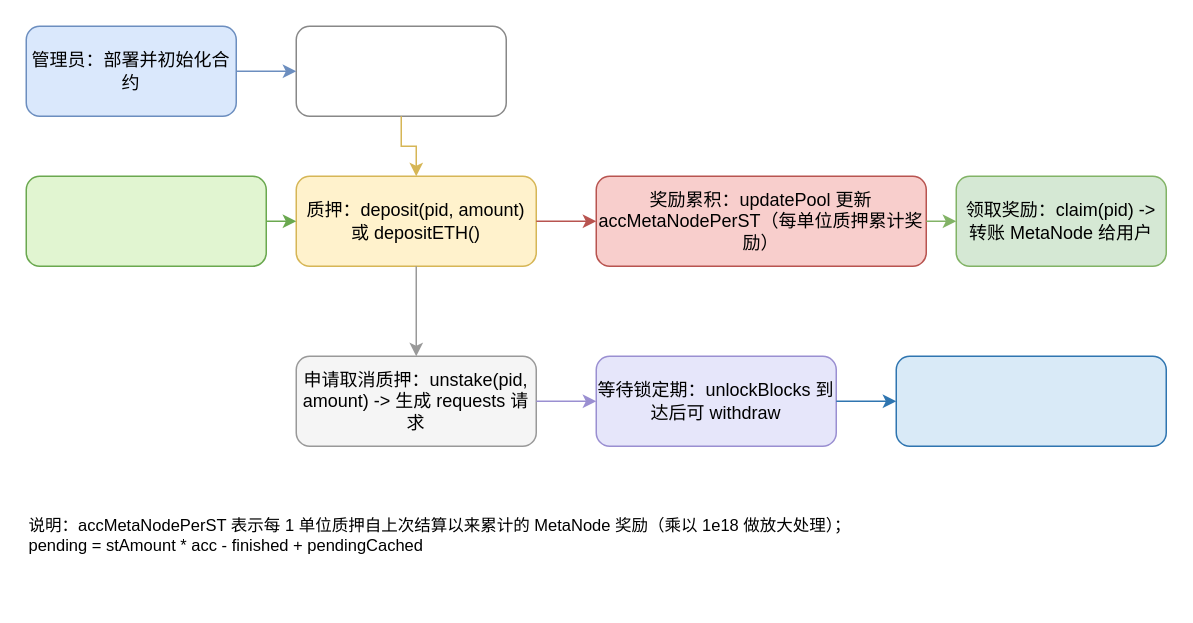
This 1193x623 diagram has some shape labels left out. The centre of each missing label's shape, as x and y in pixels:
提现：withdraw(pid) -> 合约转 ETH 或 ERC20 给用户: the point at 1030,400
添加池子：addPool(池子地址, 权重, 最小质押, 锁定区块): the point at 400,70
用户：ERC20 先 approve 合约: the point at 145,220
